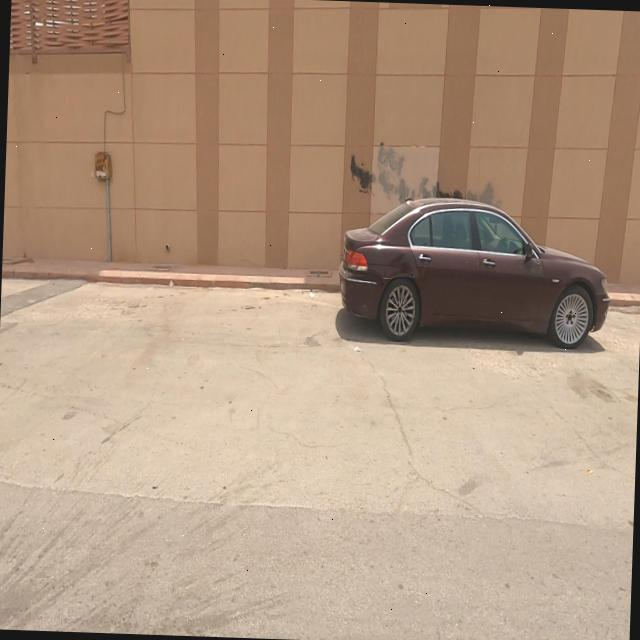Graffiti: (350, 142, 504, 210)
